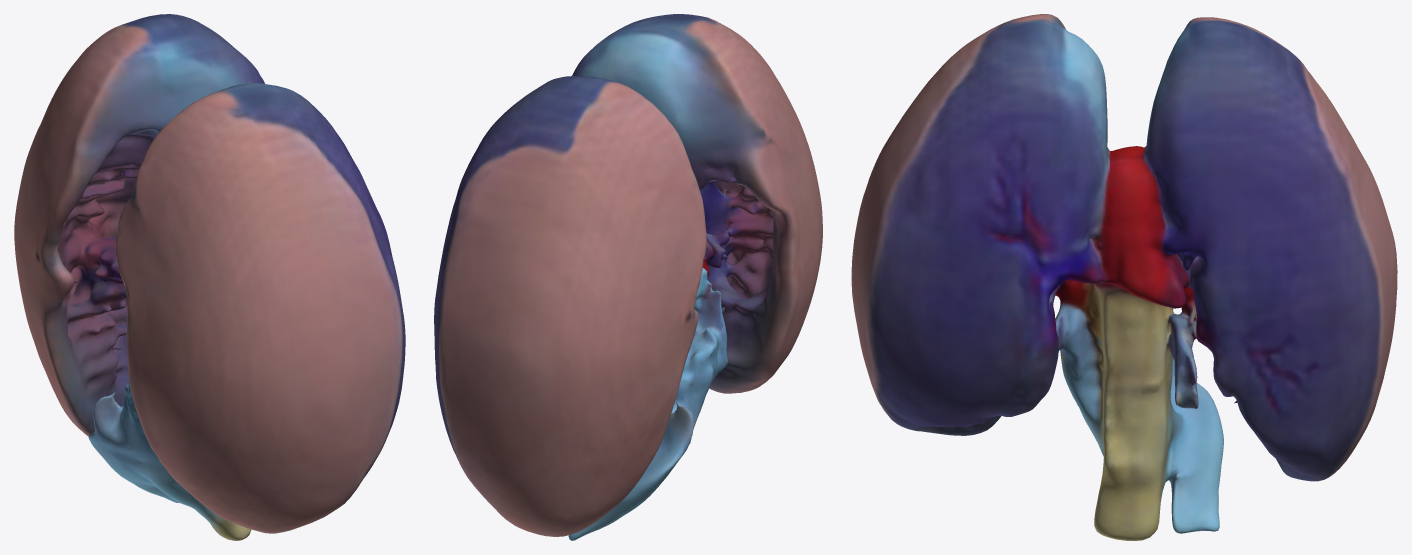
File: 7fa4b8f38b87_7cbdca2a2e43_real_human_kidneys_.glb
3 renders of one model, left to right at view 1: azimuth 30°, elevation 25°; view 2: azimuth 150°, elevation 25°; view 3: azimuth 270°, elevation 25°, orthographic. The views are drawn at different scales.
Parts seen in each view (by area): view 1: high_poly; view 2: high_poly; view 3: high_poly.
Part boxes in pixels (x1,y1,x2,y2): high_poly: [14, 14, 405, 540]; high_poly: [434, 14, 822, 540]; high_poly: [851, 14, 1397, 540].
Bounding box in the file's own units: 0.5269 × 1 × 0.9941.
Materials: 1 (1 with a texture image).
